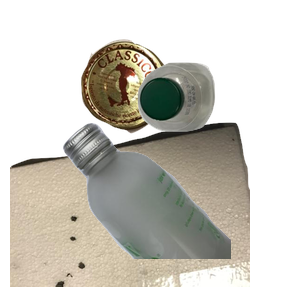glass: (60, 120, 300, 300)
metal: (78, 37, 243, 163)
plastic: (135, 60, 300, 184)
trash: (10, 120, 250, 300)
